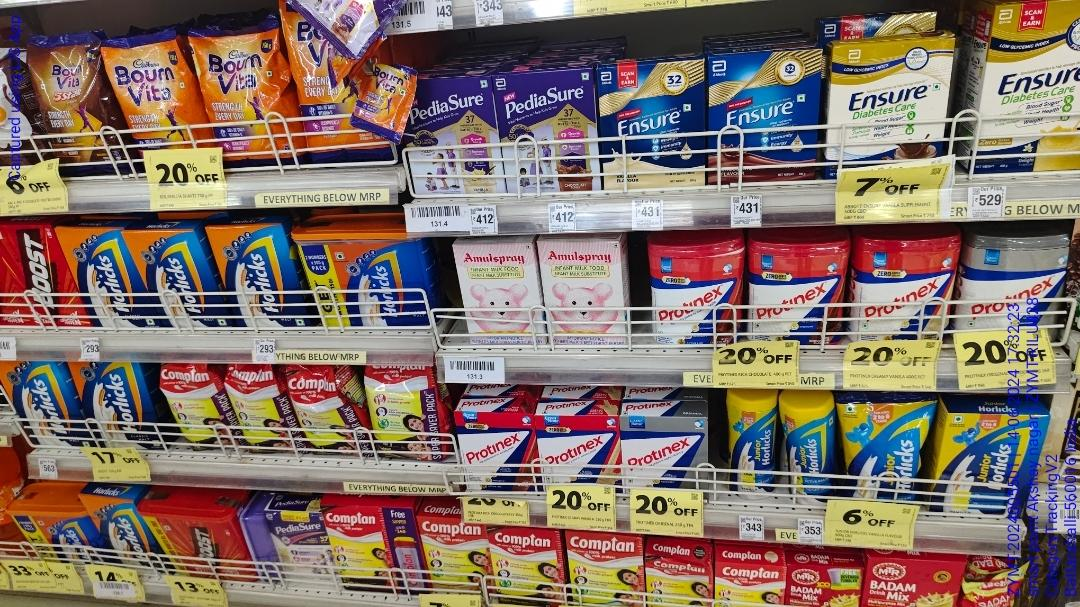BOURN_VITA_750_G_POUCH: (202, 17, 285, 171), (114, 27, 192, 146)
BOURN_VITA_FIVE_STAR_MAGIC_750_G_POUCH: (33, 28, 101, 178)
COMPLAN_CHOCOLATE_500_GMS_PACK: (325, 505, 411, 594), (488, 525, 561, 607)
COMPLAN_CREAMY_CLASSIC_500_G_PACK: (567, 531, 641, 607)
COMPLAN_KESAR_BADAM_500_GMS_PACK: (424, 516, 481, 591)
COMPLAN_RC_POUCH_700_GMS_12: (369, 364, 440, 461), (227, 365, 289, 453), (287, 363, 347, 453), (164, 366, 227, 451)
ENSURE_VANILLA_400_G_PACK: (598, 62, 706, 188)
HORLICKS_JUNIOR_VANILLA_500_GM_JAR: (729, 391, 776, 497), (780, 397, 830, 495)
HORLICK_CLASSIC_MALT_500_G_PACK: (217, 225, 289, 328), (140, 228, 207, 328), (73, 228, 135, 327), (78, 363, 147, 450), (5, 361, 67, 444)
HORLICK_MALT_1_KG_CONTAINER: (300, 235, 428, 329), (17, 511, 92, 563)
PEDIASURE_CHOCOLATE_500_G_PACK: (501, 70, 592, 191)
PEDIASURE_VANILLA_500_G_PACK: (409, 74, 496, 196)
PROTINEX_CHOCOLATE_400_G_JAR: (748, 239, 846, 344), (651, 239, 743, 346)
PROTINEX_ORIGINAL_400_G_JAR: (960, 233, 1068, 327)
PROTINEX_VANILLA_400_G_JAR: (856, 235, 957, 341)
